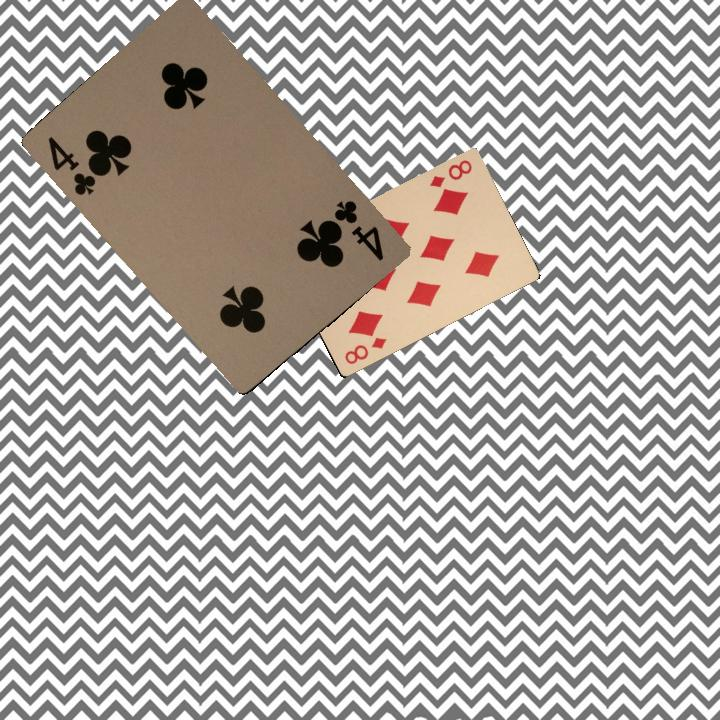4c: (43, 132, 105, 198), (329, 196, 387, 264)
8d: (425, 156, 475, 190), (340, 333, 389, 367)
